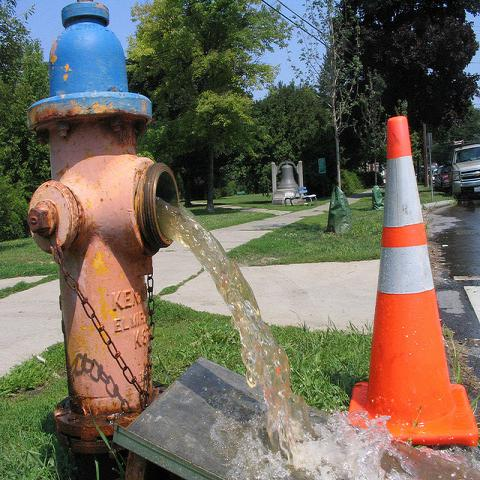car: (443, 162, 452, 195), (436, 165, 444, 192), (428, 165, 436, 188), (432, 168, 438, 188)
truck: (448, 142, 480, 201)
